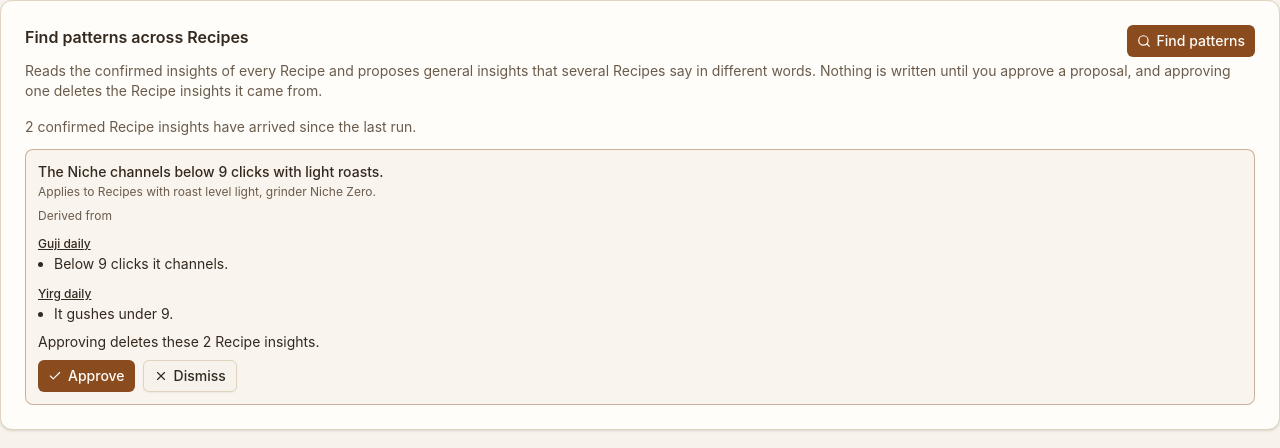
Test case: answering a proposal › dismiss sends the id and says the next run is told
Click the button "Dismiss" at point(190, 376), box [143,360,237,392]
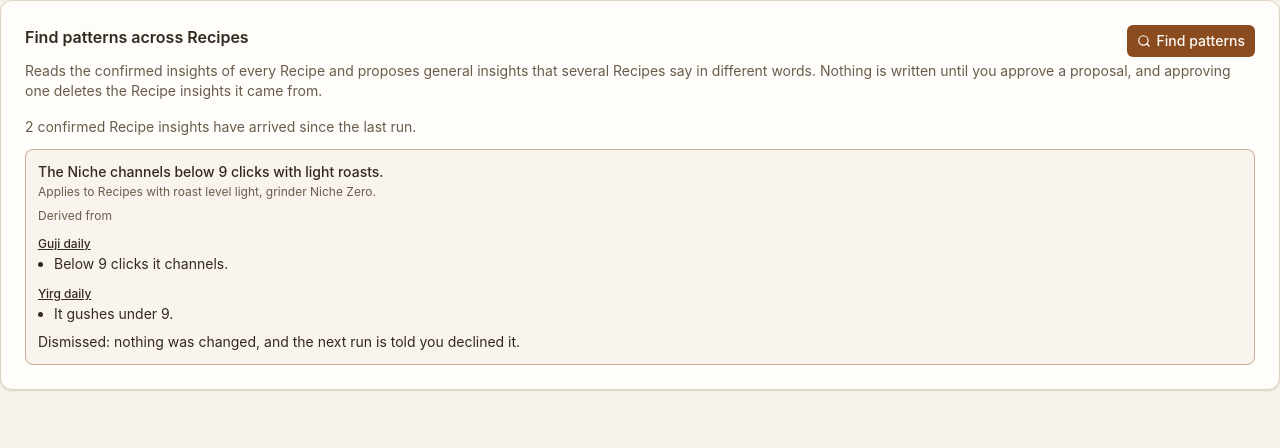
Expected: the element with test id "pattern-decided" shows "the next run is told you declined it", [38,333,520,350]
